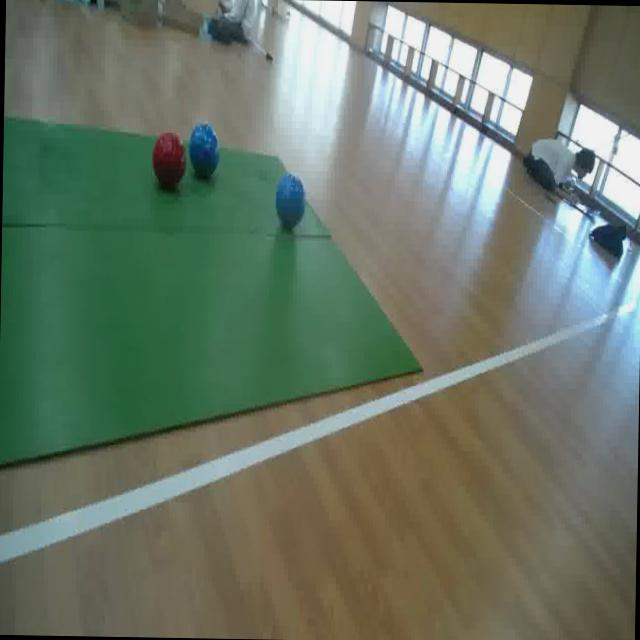blue_ball: (270, 170, 307, 232), (186, 118, 222, 178)
red_ball: (152, 131, 188, 191)
